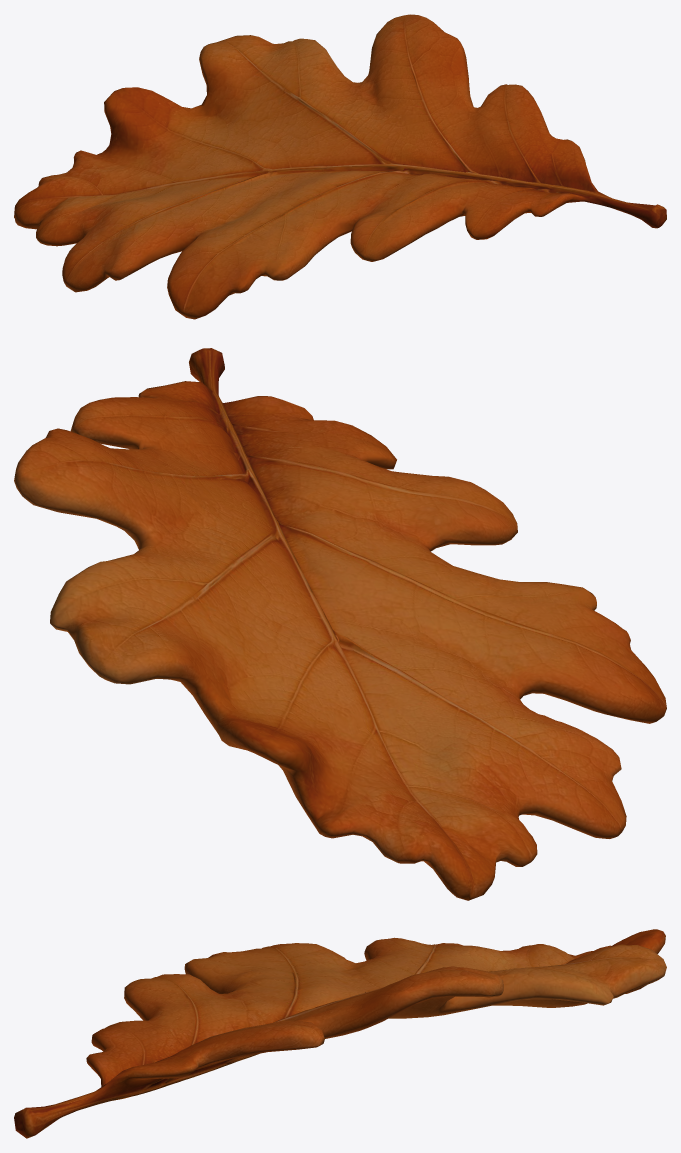
3 views of the same model, one above another, from view 1: azimuth 30°, elevation 25°; view 2: azimuth 150°, elevation 25°; view 3: azimuth 270°, elevation 25° (orthographic). The views are drawn at different scales.
Visible parts, largest first — view 1: Mega fallen leaf; view 2: Mega fallen leaf; view 3: Mega fallen leaf.
Boxes of the visible parts, x1,y1,x2,y2 form: Mega fallen leaf: (14,14,666,319); Mega fallen leaf: (14,348,666,900); Mega fallen leaf: (14,929,666,1138).
Bounding box in the file's own units: 16 × 6.05 × 16.35.
Materials: 1 (1 with a texture image).
